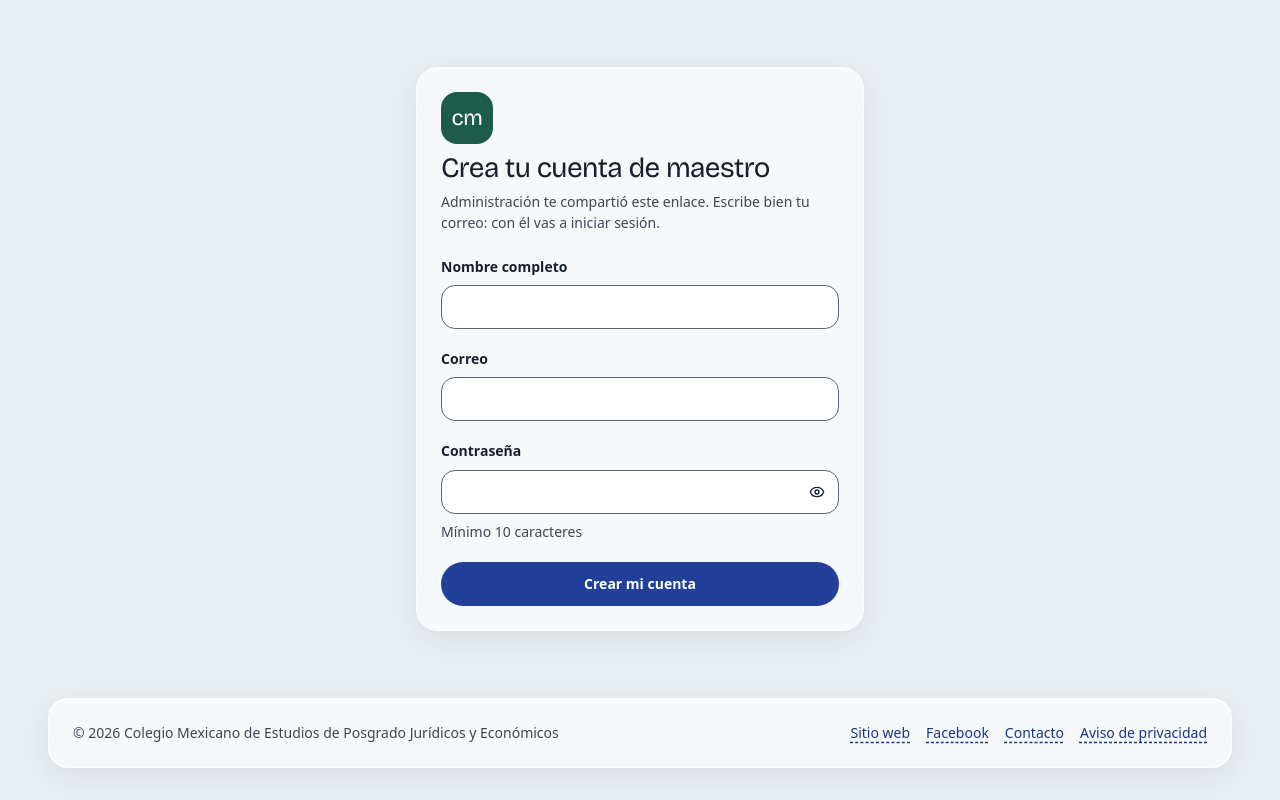
it: ataque (AUTH-03b r1): /registro-maestro › ENLACE_INVALIDO al enviar: el mensaje de enlace inválido, sin formulario, y ni la contraseña ni el token en la caché
Expected: the button "Crear mi cuenta" is shown, [441, 562, 839, 606]
Type "Luis Pérez" into the field labelled "Nombre completo". click: (640, 307)
box: [441, 285, 839, 329]
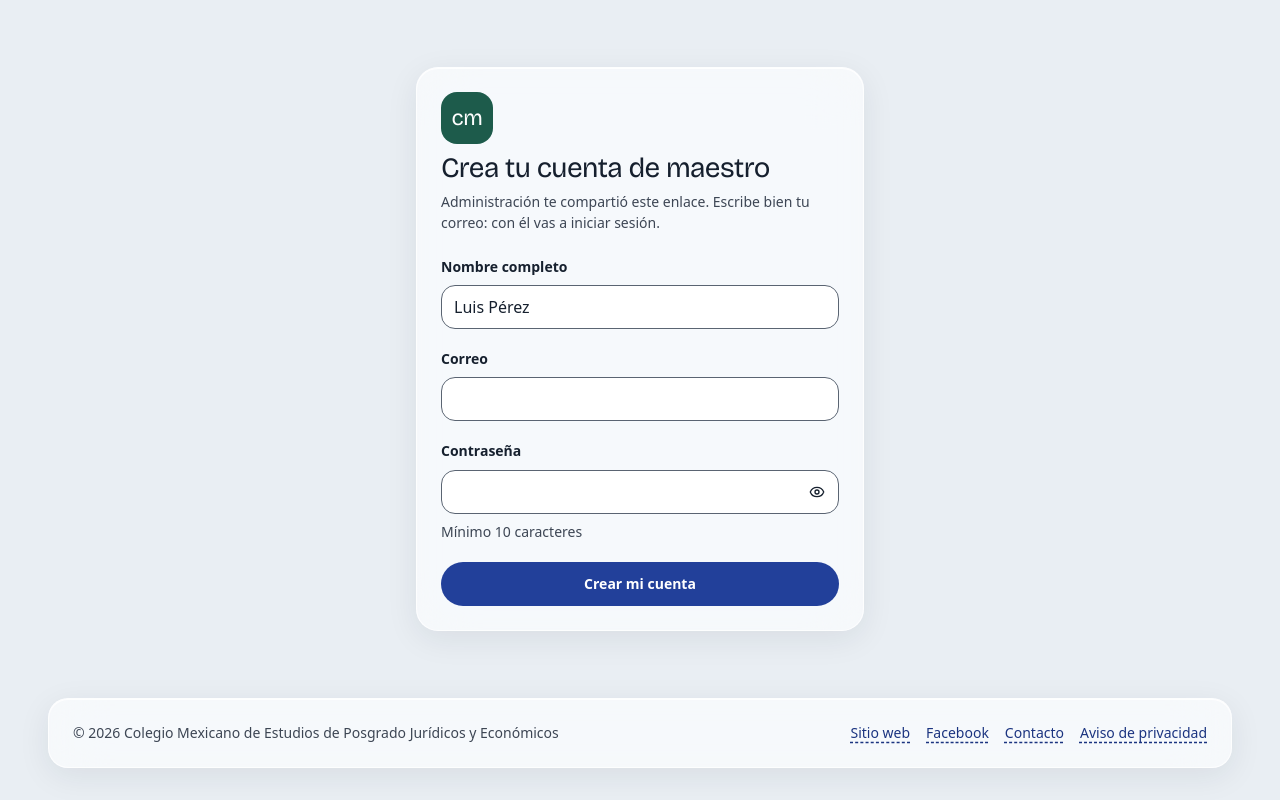
Type "luis@ejemplo.mx" into the field labelled "Correo". click: (640, 399)
box: [441, 377, 839, 421]
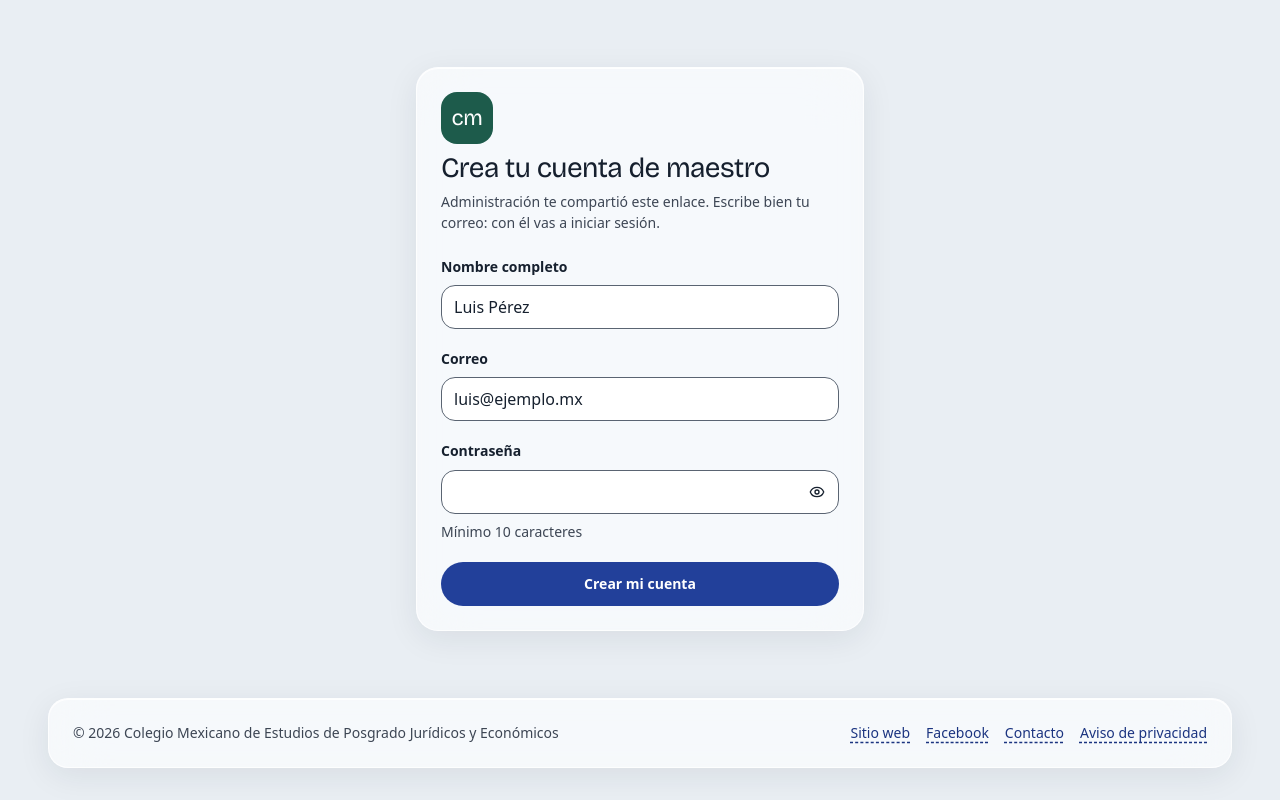
Type "clave-del-maestro-03b-r1" into the password field labelled "Contraseña". click: (640, 492)
box: [441, 470, 839, 514]
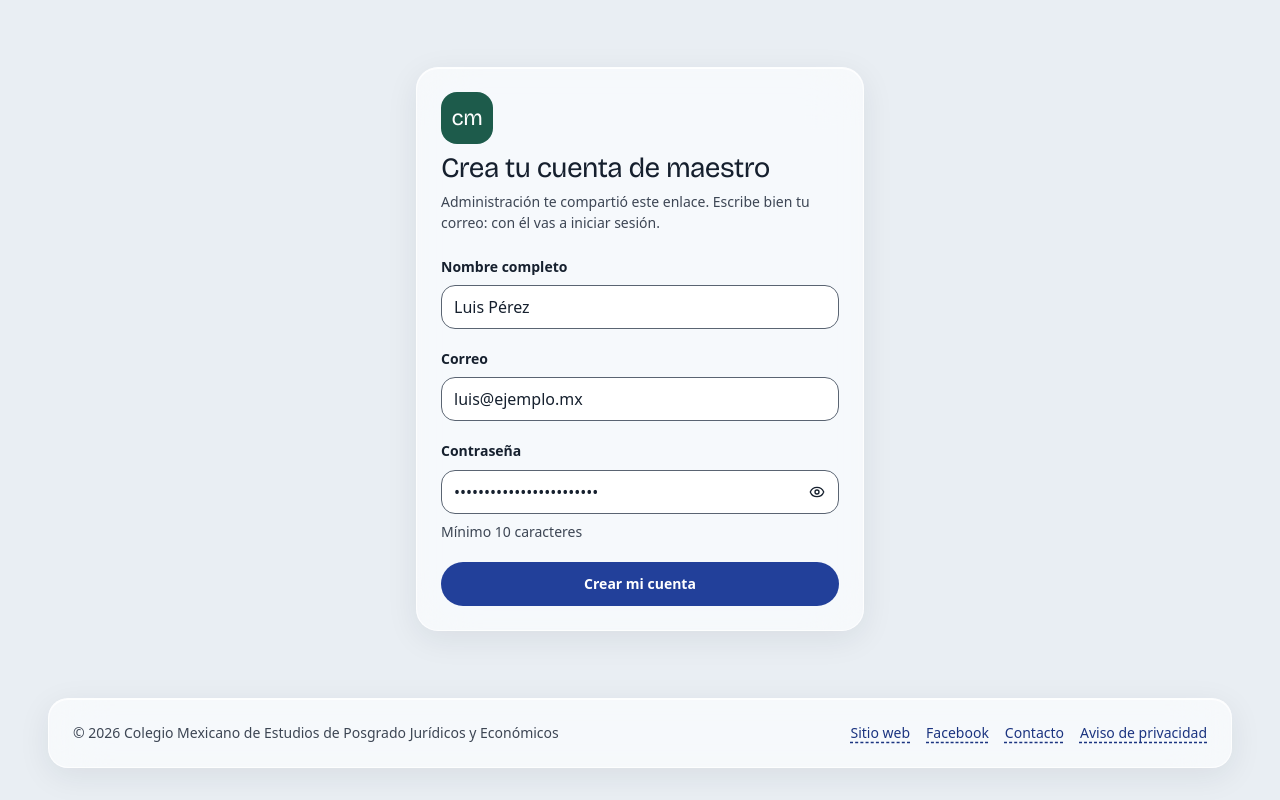
Click the button "Crear mi cuenta". click: (640, 584)
box: [441, 562, 839, 606]
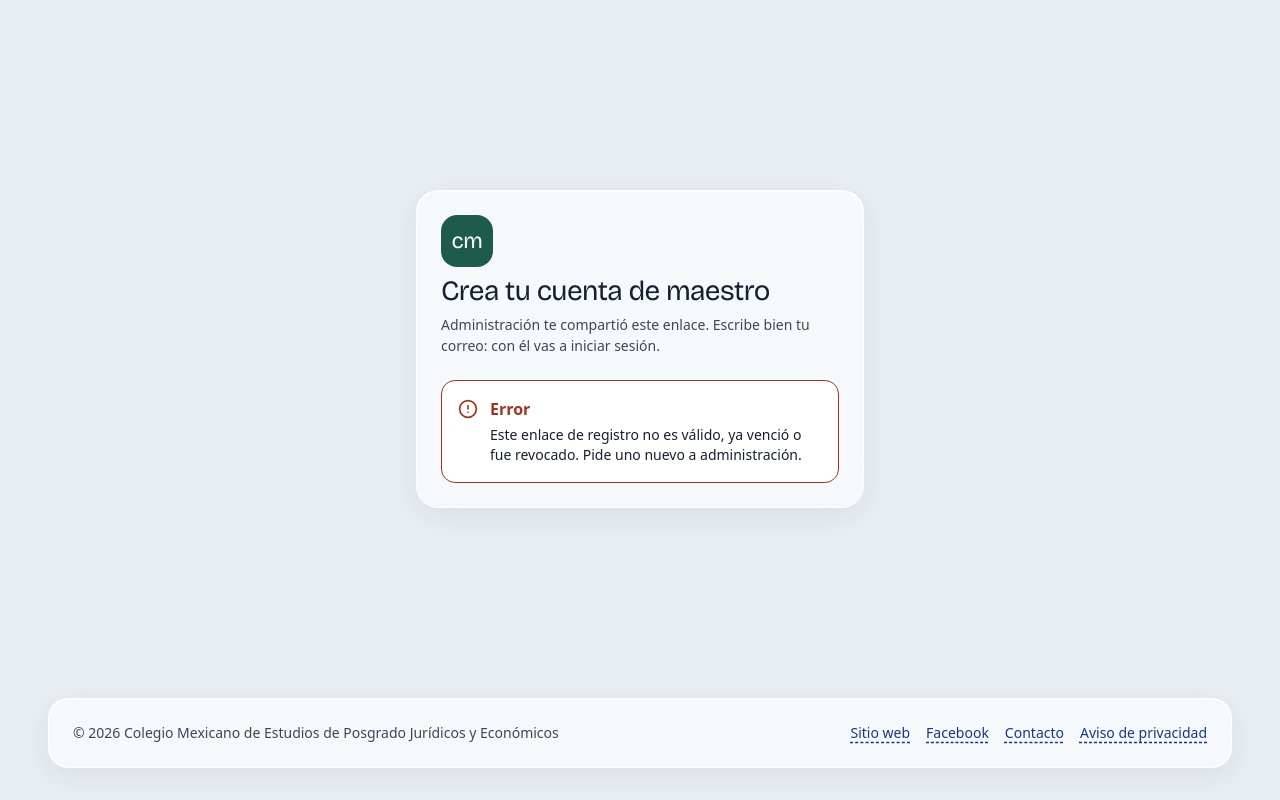
Expected: the text "Este enlace de registro no es válido, ya venció o fue revocado. Pide uno nuevo a administración." is shown, [490, 425, 802, 464]
Expected: the label labelled "Contraseña" is gone
